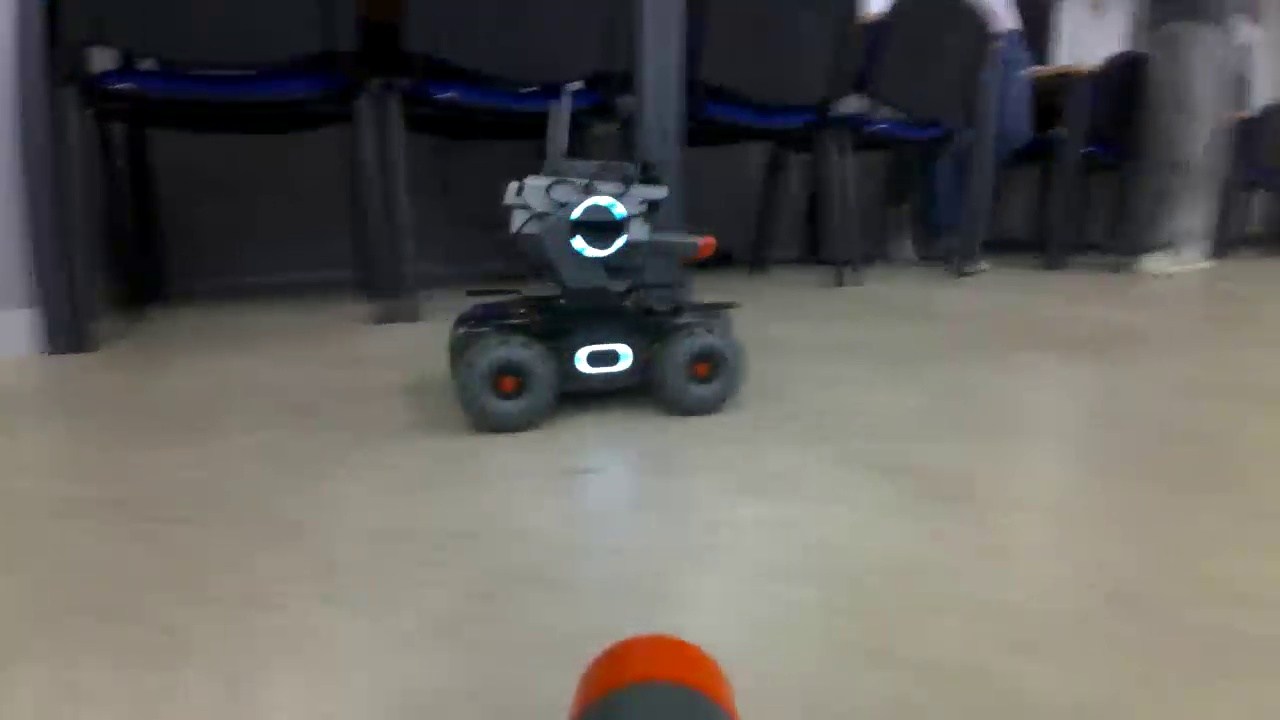robot: (448, 153, 748, 435)
